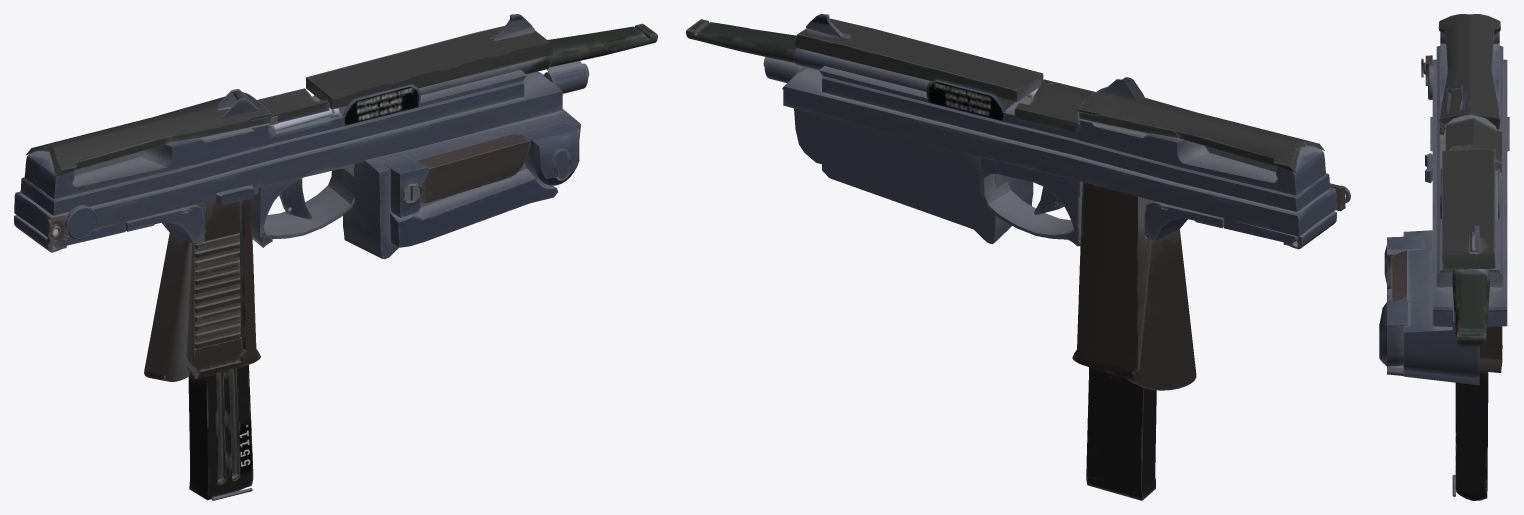
File: 3d_gun_model.glb
3 views of the same model, side by side, from view 1: azimuth 30°, elevation 25°; view 2: azimuth 150°, elevation 25°; view 3: azimuth 270°, elevation 25° (orthographic).
Visible parts, largest first — view 1: Plane_Material.001_0, Plane.001_Material.001_0, Plane.012_Material.001_0, Plane.007_Material.001_0, Plane.013_Material.001_0, Plane.003_Material.001_0, Plane.018_Material.001_0, Plane.016_Material.001_0, Circle.006_Material.001_0, Plane.017_Material.001_0, Plane.020_Material.001_0, Circle.008_Material.001_0 (+10 smaller); view 2: Plane_Material.001_0, Plane.001_Material.001_0, Plane.018_Material.001_0, Plane.012_Material.001_0, Plane.007_Material.001_0, Plane.013_Material.001_0, Plane.003_Material.001_0, Circle.006_Material.001_0, Plane.020_Material.001_0, Circle.004_Material.001_0, Plane.004_Material.001_0, Plane.019_Material.001_0 (+3 smaller); view 3: Plane.007_Material.001_0, Plane.018_Material.001_0, Plane.003_Material.001_0, Plane_Material.001_0, Plane.013_Material.001_0, Plane.001_Material.001_0, Circle.004_Material.001_0, Plane.004_Material.001_0, Circle.008_Material.001_0, Plane.012_Material.001_0, Plane.015_Material.001_0, Plane.017_Material.001_0 (+7 smaller).
Boxes of the visible parts, x1=… form: Plane_Material.001_0: x1=20, y1=70, x2=526, y2=215; Plane.001_Material.001_0: x1=14, y1=71, x2=563, y2=237; Plane.012_Material.001_0: x1=186, y1=199, x2=260, y2=378; Plane.007_Material.001_0: x1=306, y1=26, x2=552, y2=109; Plane.013_Material.001_0: x1=188, y1=365, x2=253, y2=500; Plane.003_Material.001_0: x1=26, y1=92, x2=271, y2=176; Plane.018_Material.001_0: x1=342, y1=109, x2=580, y2=259; Plane.016_Material.001_0: x1=390, y1=168, x2=557, y2=247; Circle.006_Material.001_0: x1=144, y1=233, x2=192, y2=381; Plane.017_Material.001_0: x1=416, y1=134, x2=530, y2=202; Plane.020_Material.001_0: x1=252, y1=167, x2=354, y2=247; Circle.008_Material.001_0: x1=519, y1=122, x2=579, y2=185; Plane_Material.001_0: x1=819, y1=66, x2=1329, y2=211; Plane.001_Material.001_0: x1=782, y1=67, x2=1336, y2=236; Plane.018_Material.001_0: x1=794, y1=108, x2=1033, y2=243; Plane.012_Material.001_0: x1=1072, y1=182, x2=1153, y2=378; Plane.007_Material.001_0: x1=794, y1=18, x2=1043, y2=101; Plane.013_Material.001_0: x1=1086, y1=367, x2=1156, y2=500; Plane.003_Material.001_0: x1=1077, y1=87, x2=1324, y2=172; Circle.006_Material.001_0: x1=1126, y1=229, x2=1196, y2=390; Plane.020_Material.001_0: x1=980, y1=170, x2=1080, y2=246; Circle.004_Material.001_0: x1=686, y1=19, x2=796, y2=62; Plane.004_Material.001_0: x1=1014, y1=79, x2=1095, y2=132; Plane.019_Material.001_0: x1=979, y1=156, x2=1081, y2=241; Plane.007_Material.001_0: x1=1442, y1=149, x2=1495, y2=270; Plane.018_Material.001_0: x1=1403, y1=230, x2=1479, y2=385; Plane.003_Material.001_0: x1=1438, y1=14, x2=1500, y2=129; Plane_Material.001_0: x1=1436, y1=31, x2=1503, y2=287; Plane.013_Material.001_0: x1=1455, y1=371, x2=1488, y2=500; Plane.001_Material.001_0: x1=1432, y1=59, x2=1507, y2=326; Circle.004_Material.001_0: x1=1452, y1=273, x2=1489, y2=346; Plane.004_Material.001_0: x1=1445, y1=118, x2=1501, y2=172; Circle.008_Material.001_0: x1=1379, y1=300, x2=1408, y2=366; Plane.012_Material.001_0: x1=1479, y1=326, x2=1502, y2=372; Plane.015_Material.001_0: x1=1384, y1=236, x2=1424, y2=288; Plane.017_Material.001_0: x1=1391, y1=250, x2=1406, y2=301.
Bounding box in the file's own units: 3.31 × 2.04 × 0.5919.
1 material, 1 textured.
